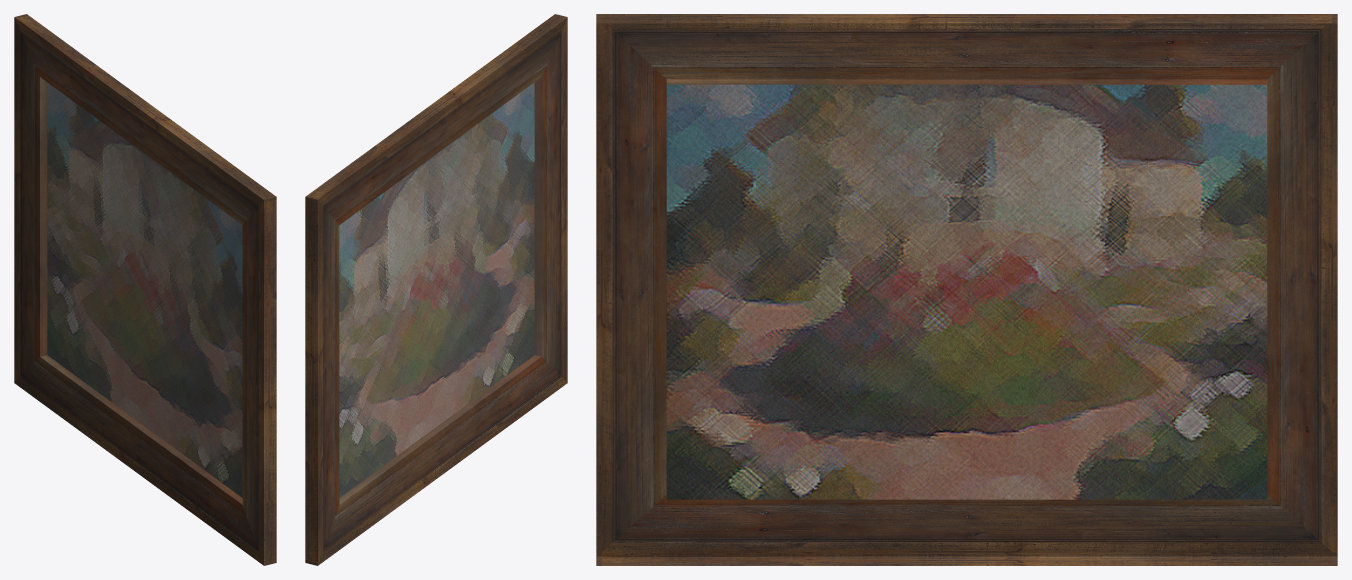
File: Painting_C.fbx
3 views of the same model, side by side, from view 1: azimuth 30°, elevation 25°; view 2: azimuth 150°, elevation 25°; view 3: azimuth 270°, elevation 25° (orthographic). The views are drawn at different scales.
Parts seen in each view (by area): view 1: Painting_C; view 2: Painting_C; view 3: Painting_C.
Boxes of the visible parts, box(x1,y1,x2,y2) form: Painting_C: box(14, 14, 276, 565); Painting_C: box(305, 14, 567, 565); Painting_C: box(596, 14, 1337, 565).
Bounding box in the file's own units: 3.63 × 100 × 124.
2 materials, 1 textured.
